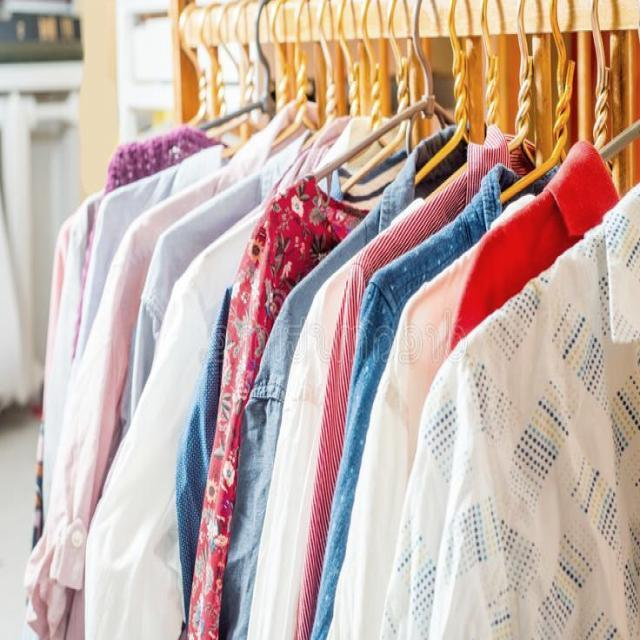clothes: (55, 214, 640, 640)
